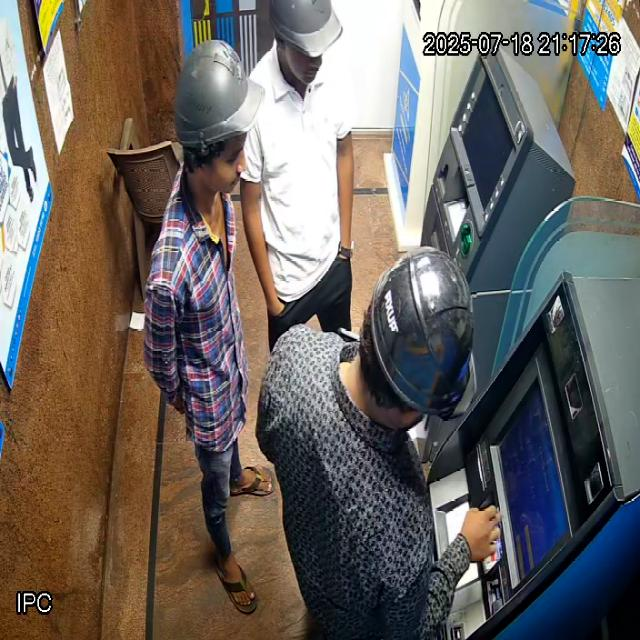helmet: (340, 245, 476, 431), (174, 40, 264, 208), (269, 0, 342, 96)
